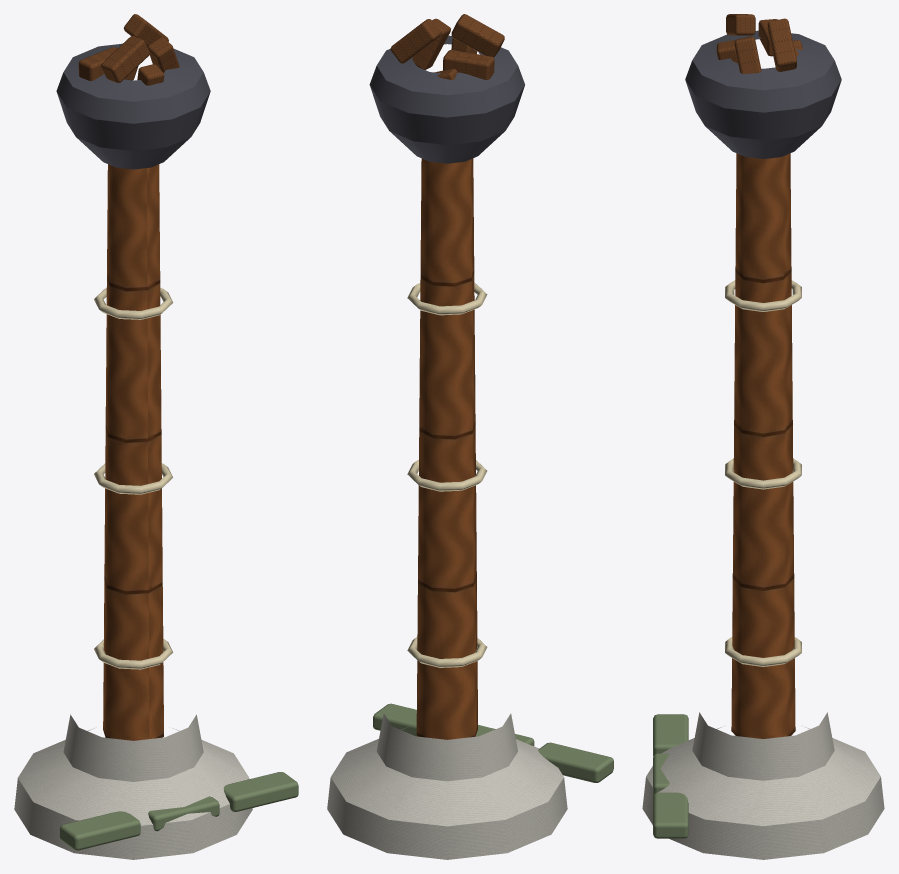
The model's file is jungle-temple-and-stone-city-standing-torch-post-45ef108c__36157.glb.
3 views of the same model, side by side, from view 1: azimuth 30°, elevation 25°; view 2: azimuth 150°, elevation 25°; view 3: azimuth 270°, elevation 25° (orthographic).
Visible parts, largest first — view 1: standing-torch-post; view 2: standing-torch-post; view 3: standing-torch-post.
Part boxes in pixels (bbox=[...]): standing-torch-post: bbox=[14, 14, 298, 859]; standing-torch-post: bbox=[327, 14, 613, 859]; standing-torch-post: bbox=[642, 14, 884, 859].
Size of the model in its own units: 0.74 by 2.47 by 0.68.
6 materials, 4 textured.
